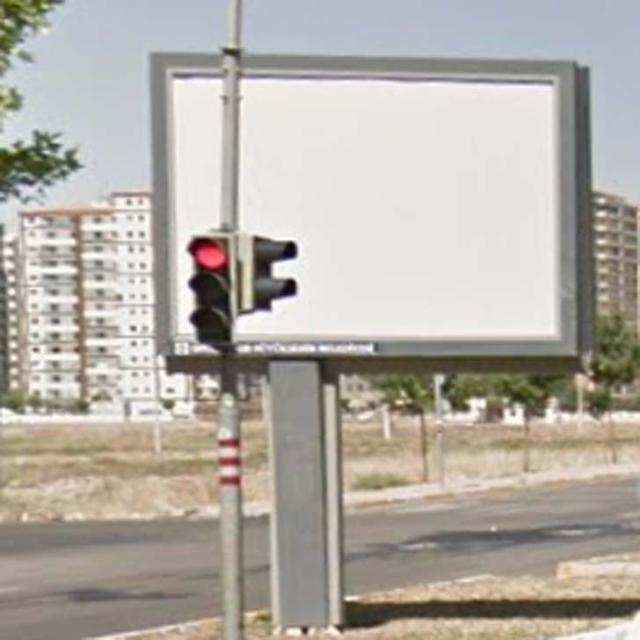kirmizi: (194, 238, 228, 346)
